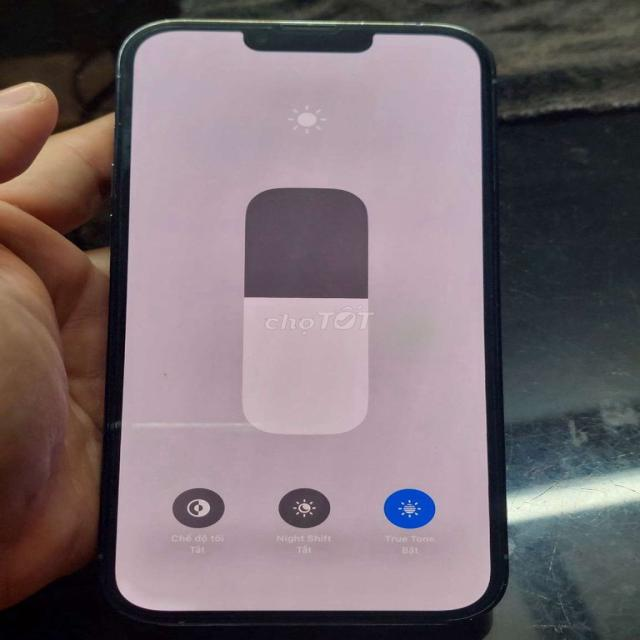gen_12_13: (107, 18, 528, 634)
